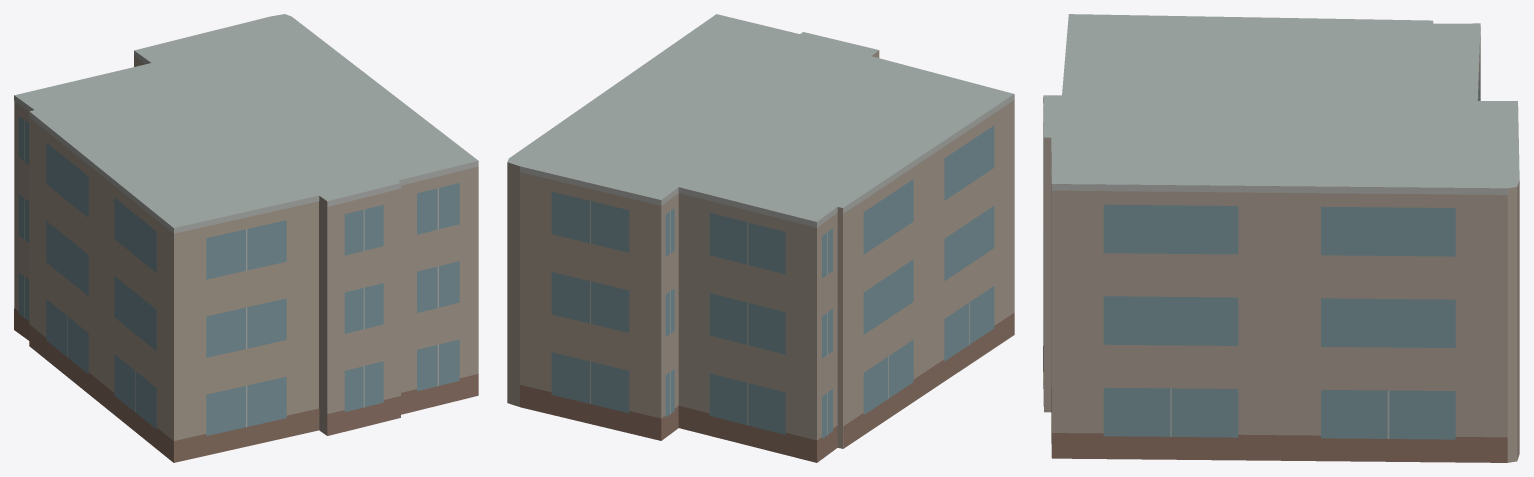
File: survey-upis-32562806.glb
3 renders of one model, left to right at view 1: azimuth 30°, elevation 25°; view 2: azimuth 150°, elevation 25°; view 3: azimuth 270°, elevation 25°, orthographic. The views are drawn at different scales.
Parts seen in each view (by area): view 1: survey-upis-32562806.tmp; view 2: survey-upis-32562806.tmp; view 3: survey-upis-32562806.tmp.
Part boxes in pixels (bbox=[...]): survey-upis-32562806.tmp: bbox=[14, 14, 478, 462]; survey-upis-32562806.tmp: bbox=[507, 14, 1014, 462]; survey-upis-32562806.tmp: bbox=[1043, 14, 1519, 462].
Bounding box in the file's own units: 13.76 × 10.1 × 15.89.
